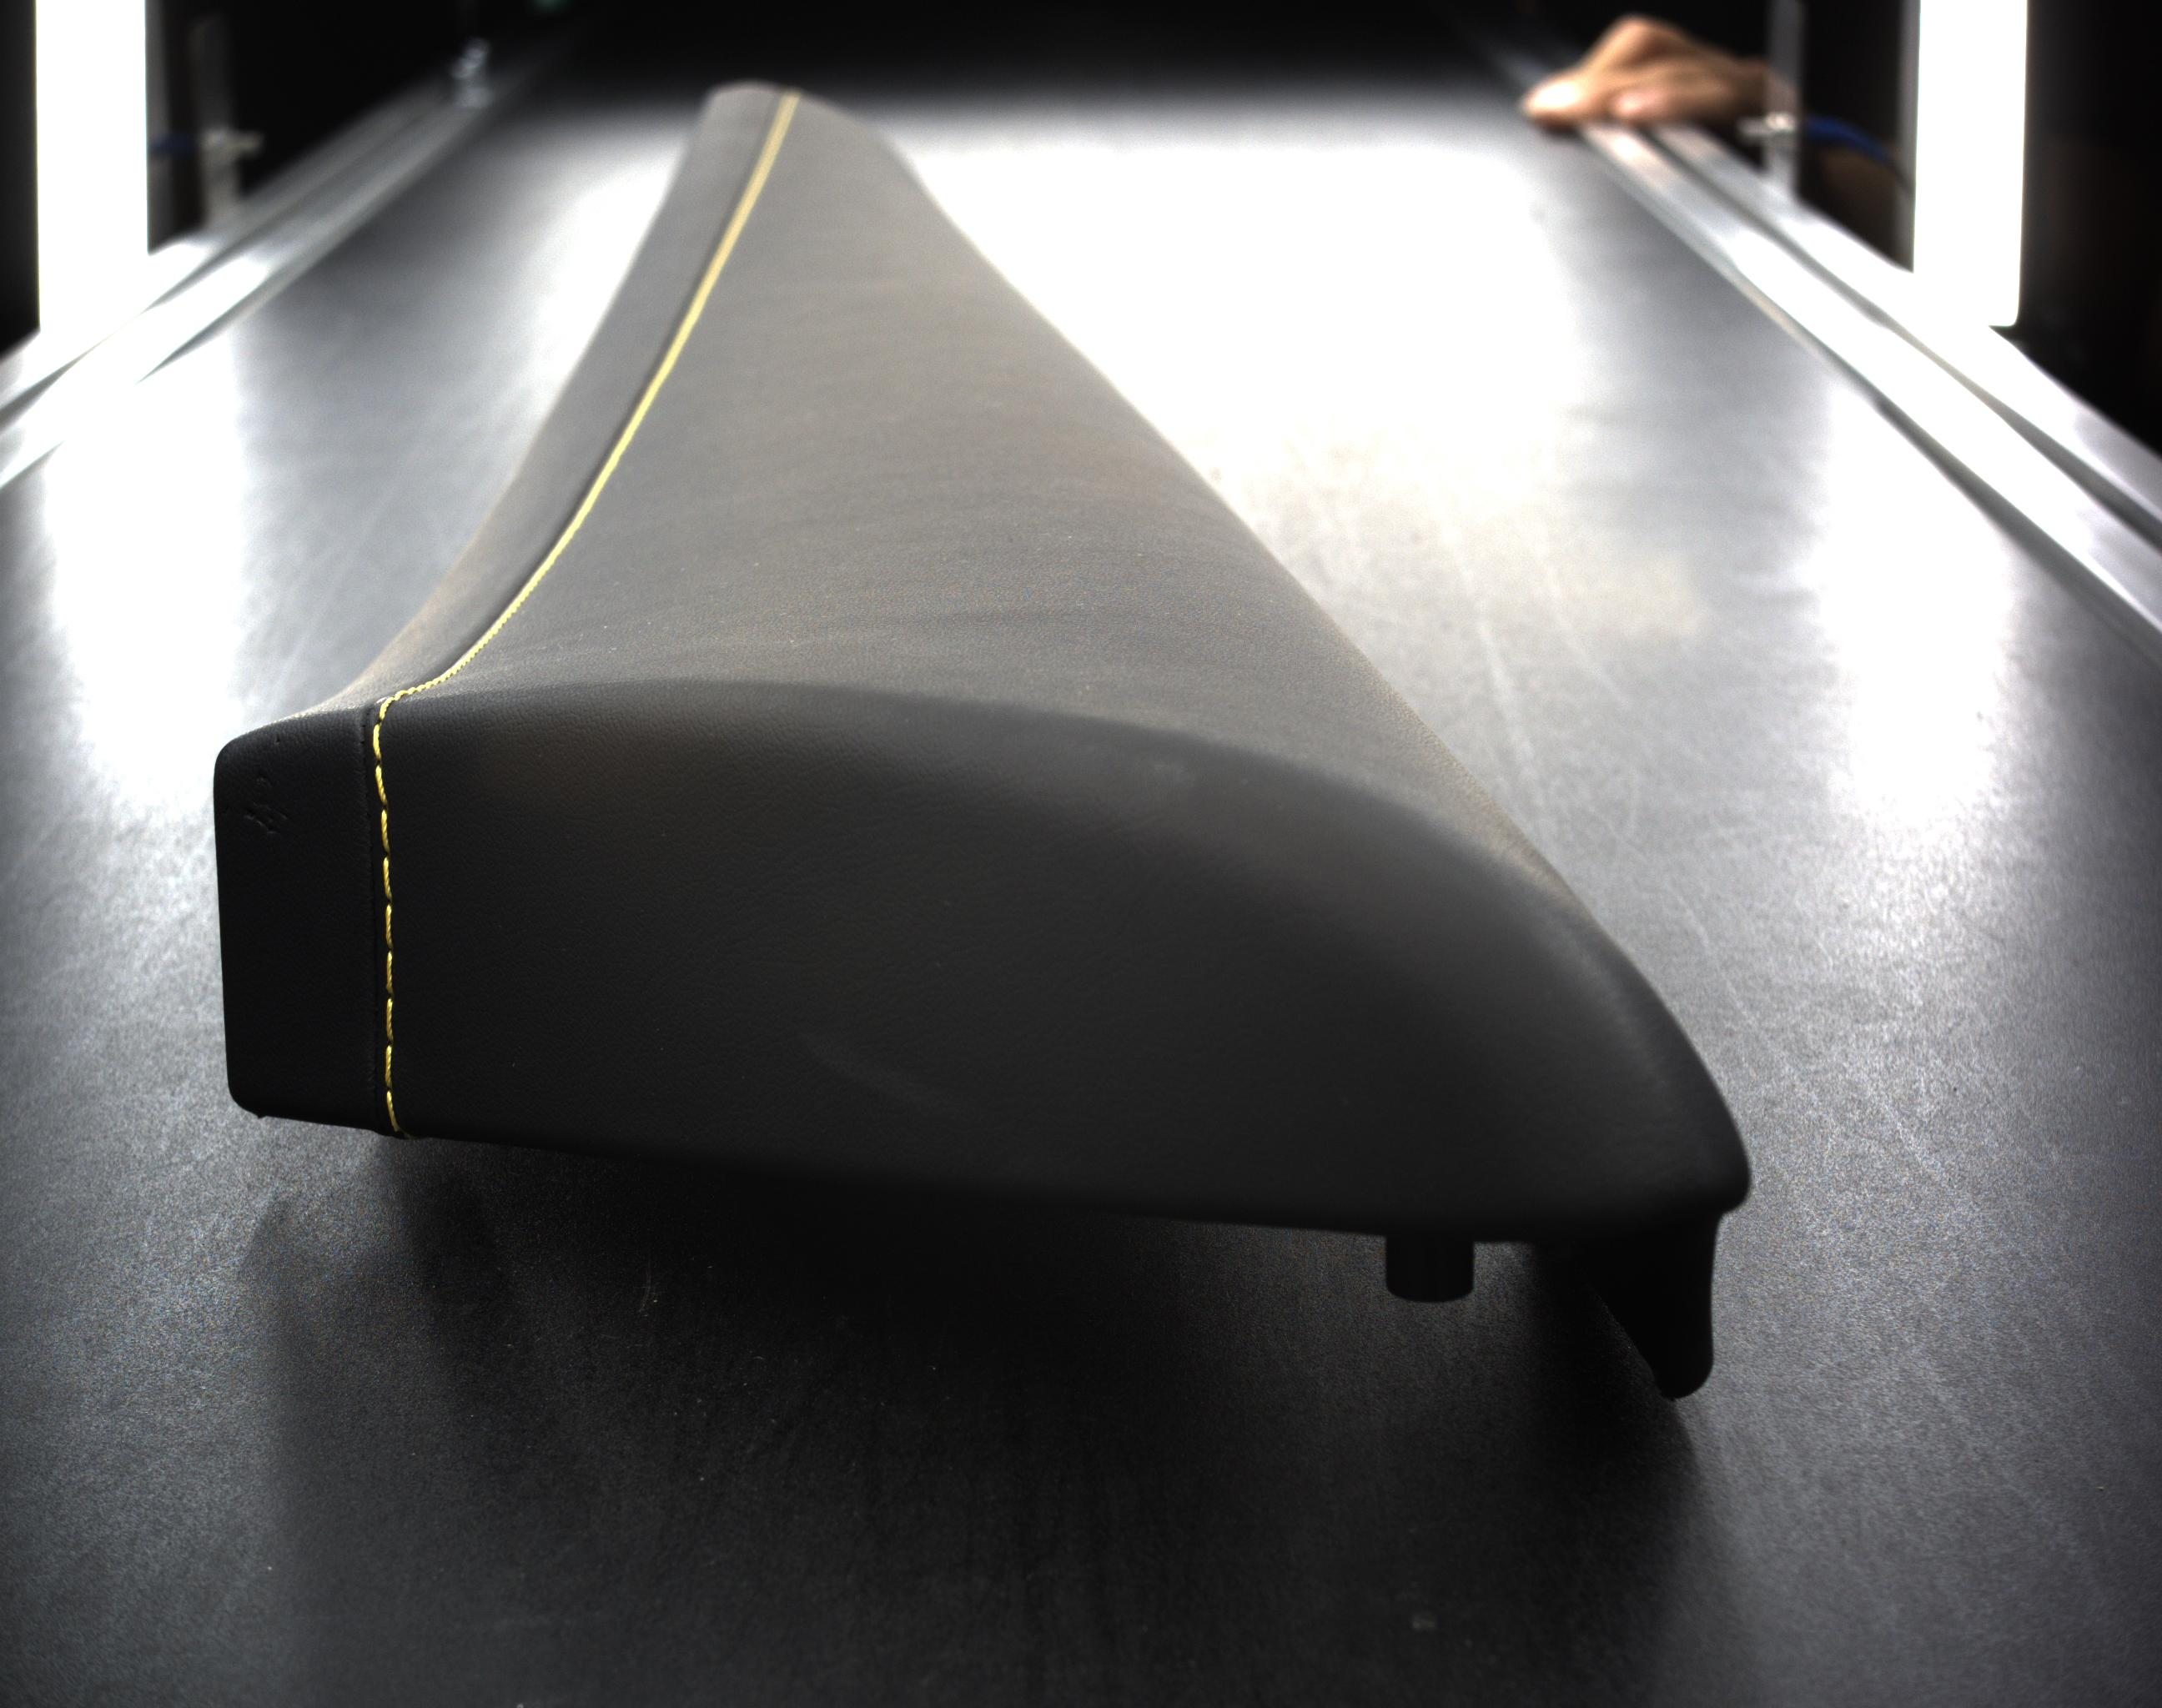vline: (384, 951, 398, 994), (372, 767, 388, 804), (377, 809, 391, 850), (379, 858, 393, 899), (383, 999, 397, 1037), (383, 908, 395, 946), (383, 1048, 395, 1083), (370, 723, 383, 755), (384, 1094, 397, 1125)
